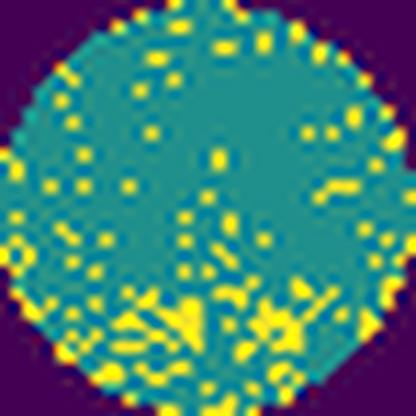Loc: (138, 289, 206, 353), (250, 300, 308, 356)
